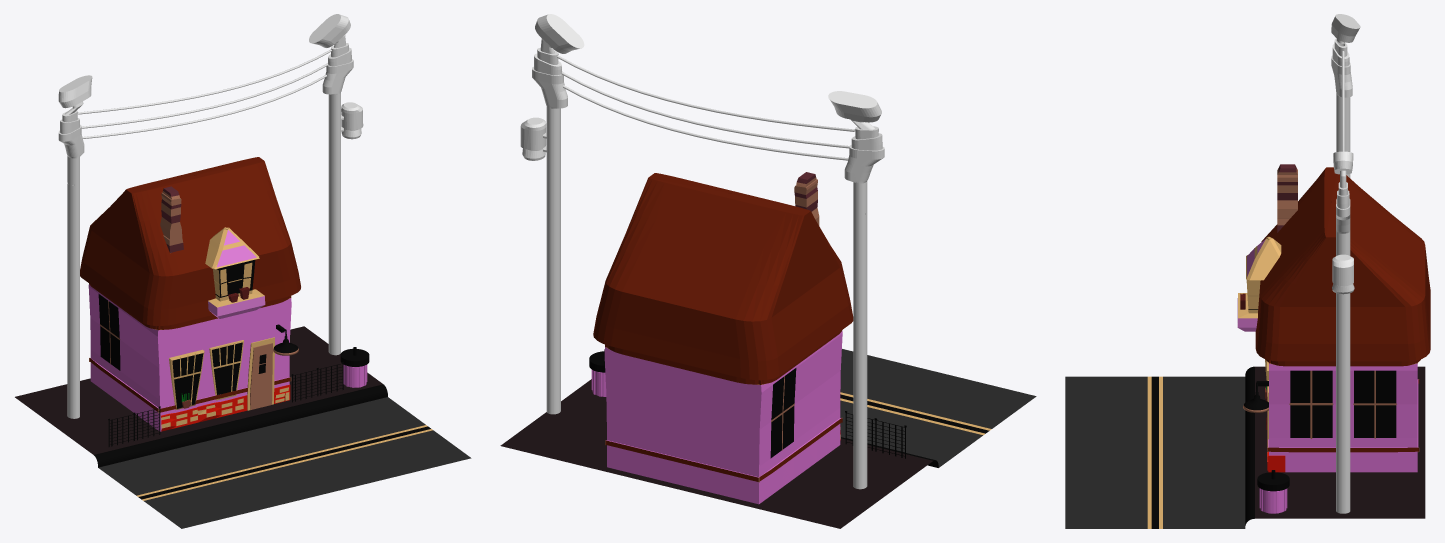
File: Low_poly_house.dae
The picture shows the model from 3 angles, left to right: view 1: azimuth 30°, elevation 25°; view 2: azimuth 150°, elevation 25°; view 3: azimuth 270°, elevation 25°; orthographic projection. The views are drawn at different scales.
Visible parts, largest first — view 1: Plane; view 2: Plane; view 3: Plane.
Part boxes in pixels (box(x1,y1,x2,y2)): Plane: box(15, 14, 471, 528); Plane: box(500, 14, 1036, 528); Plane: box(1065, 14, 1430, 528).
Size of the model in its own units: 2.13 by 2.03 by 2.3.
